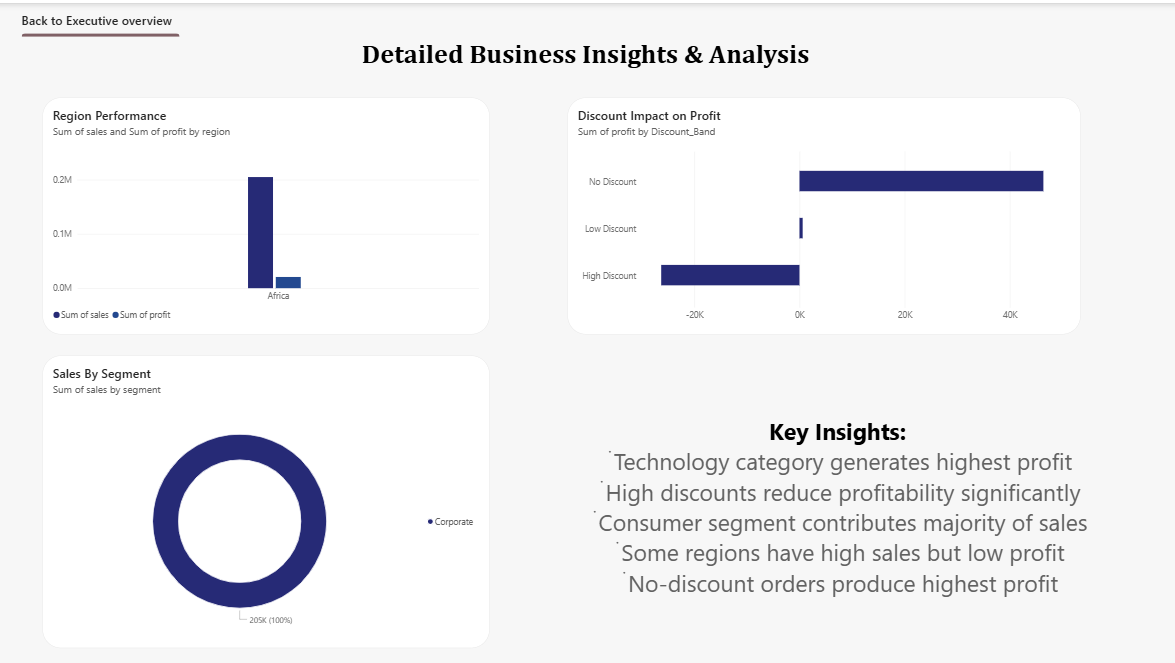

Layout of this report page (visuals, bound fields, positions):
{"tool":"powerbi","page":{"name":"Detailed Insights","canvas":[1920,1080],"ordinal":1},"visuals":[{"type":"clusteredColumnChart","title":"Region Performance","fields":{"Category":["Table1.region"],"Y":["Sum(Table1.sales)","Sum(Table1.profit)"]},"box":[75.6,153.7,727.1,385.5],"z":0},{"type":"barChart","title":"Discount Impact on Profit","fields":{"Category":["Table1.Discount_Band"],"Y":["Sum(Table1.profit)"]},"box":[929.6,153.7,834.4,385.5],"z":1000},{"type":"donutChart","title":"Sales By Segment","fields":{"Category":["Table1.segment"],"Y":["Sum(Table1.sales)"]},"box":[75.6,573.4,727.1,475.8],"z":2000},{"type":"textbox","box":[75.6,56.1,1766.4,109.8],"z":3000},{"type":"textbox","box":[895.4,670.9,946.6,378.2],"z":4000},{"type":"actionButton","title":"Back to Executive overview","box":[42.5,15,257.5,40],"z":5000}]}

Visuals, with their boxes in screenshot pixels (x1, y1, x2, y2), scaled from the page's 1920x1080 canvas onto the 1175x663 screenshot:
"Region Performance" clusteredColumnChart: [x1=46, y1=94, x2=491, y2=331]
"Discount Impact on Profit" barChart: [x1=569, y1=94, x2=1080, y2=331]
"Sales By Segment" donutChart: [x1=46, y1=352, x2=491, y2=644]
textbox: [x1=46, y1=34, x2=1127, y2=102]
textbox: [x1=548, y1=412, x2=1127, y2=644]
"Back to Executive overview" actionButton: [x1=26, y1=9, x2=184, y2=34]
